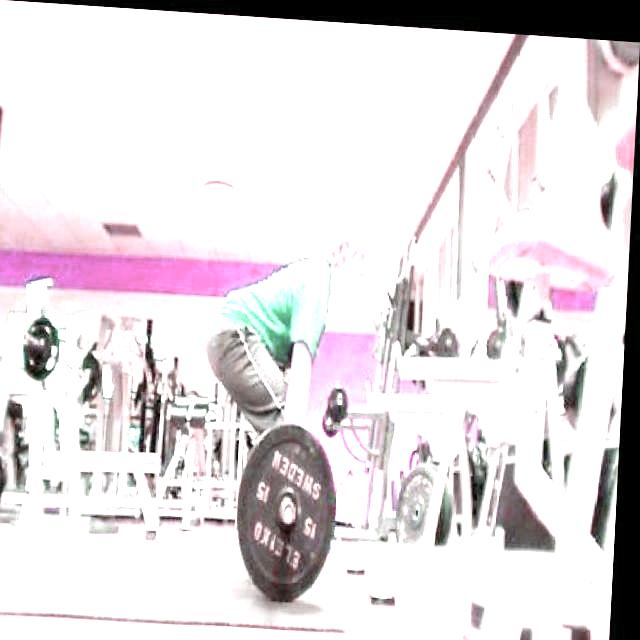barbell: (233, 410, 350, 607)
